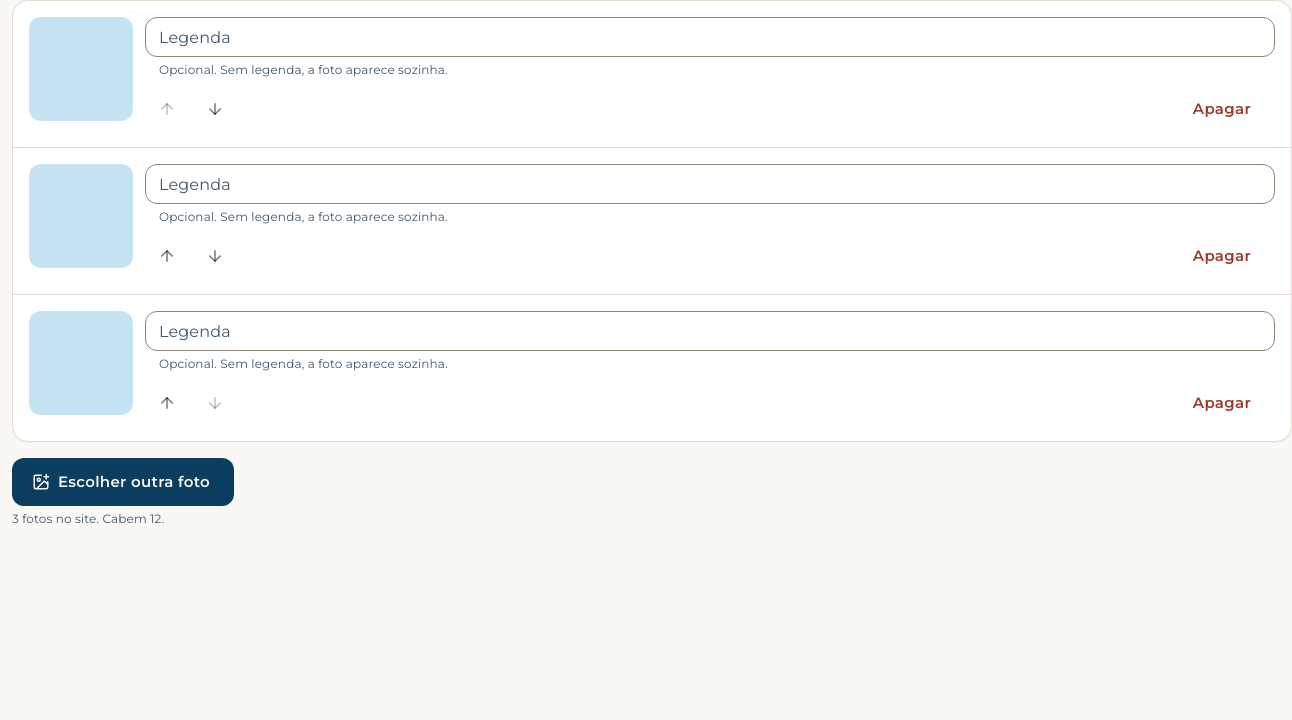
a ordem move na hora, e os pedidos se fundem › **falhando, a tela volta à última ordem que o servidor confirmou, e diz isso**
The image size is (1292, 720).
Click the button named "Descer a foto 1" at {"x": 215, "y": 109}, box [193,87,237,131]
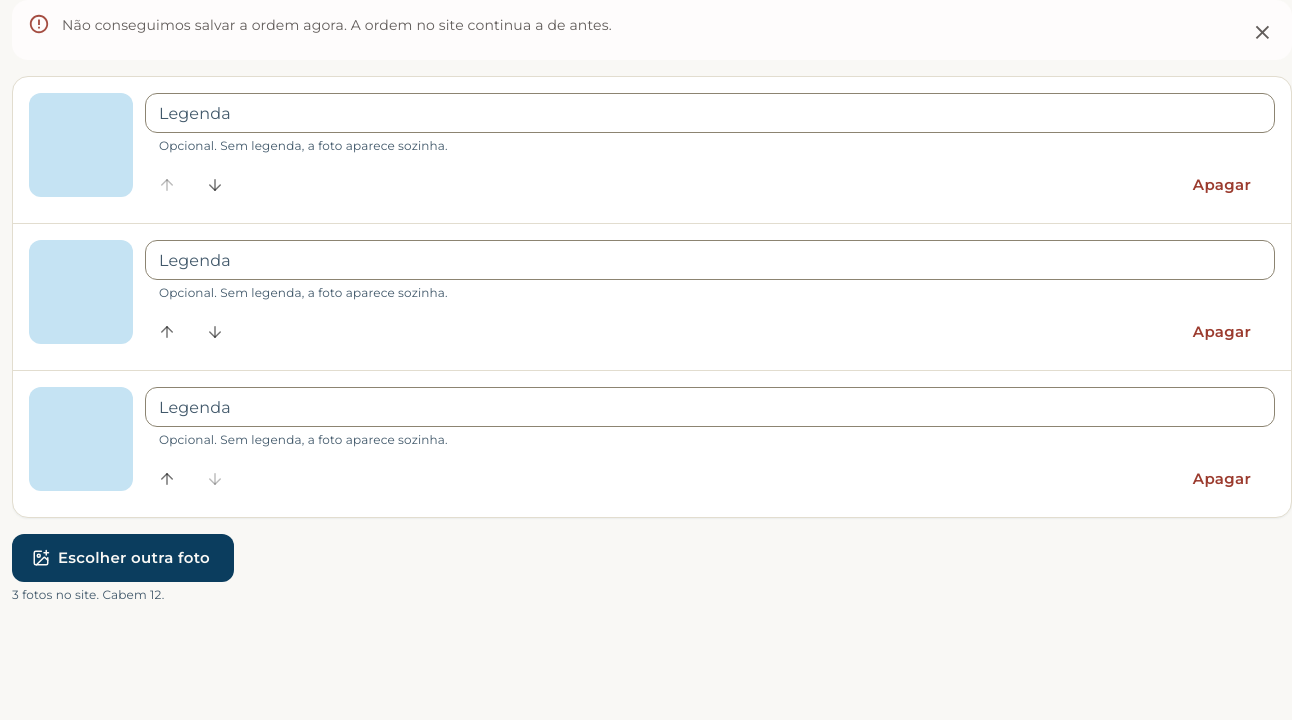
Expected: the text "A ordem no site continua a de antes" is shown, [62,16,612,34]
